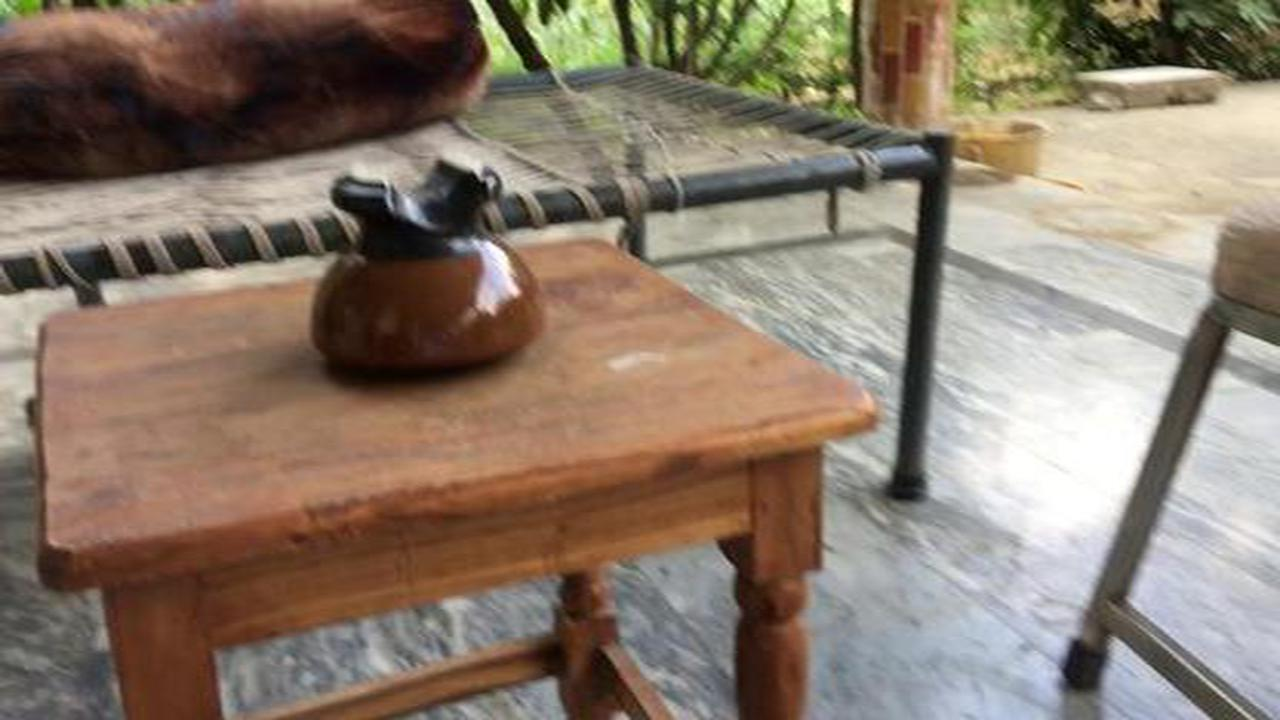insulator_pin: (277, 143, 561, 395)
